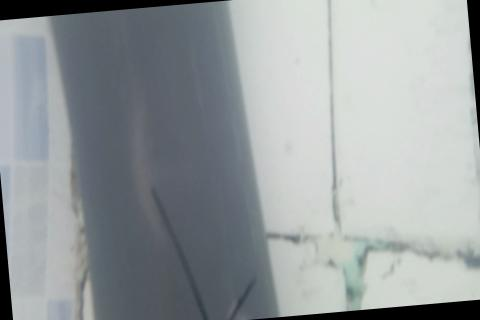keretakan: (148, 178, 213, 320), (220, 270, 262, 320)
